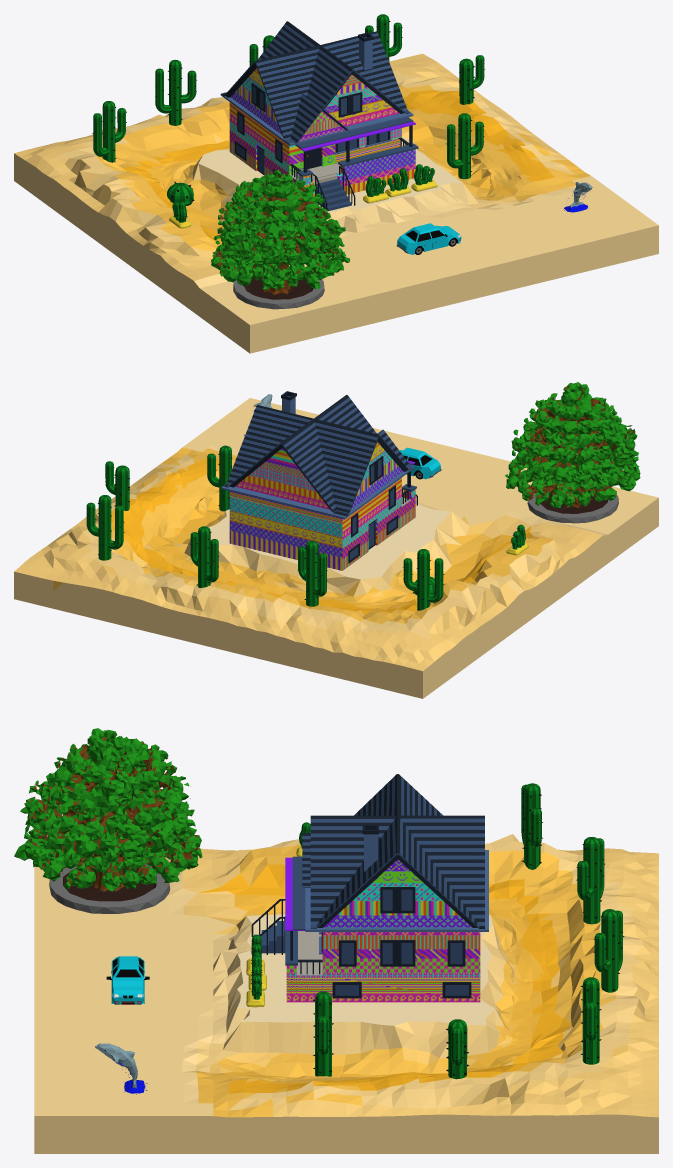
3 renders of one model, top to bottom at view 1: azimuth 30°, elevation 25°; view 2: azimuth 150°, elevation 25°; view 3: azimuth 270°, elevation 25°, orthographic. The views are drawn at different scales.
Visible parts, largest first — view 1: Cube.001, Cube.676, OBJRANDOM_CEIBA, Cylinder.044, Cylinder.037, Cylinder.045, VEHICLES_CAR, Cylinder.038, Cylinder.042, Cylinder.041, Cylinder.039, Sphere.023 (+1 smaller); view 2: Cube.001, Cube.676, OBJRANDOM_CEIBA, Cylinder.042, Cylinder.045, Cylinder.044, Cylinder.043, Cylinder.037, Cylinder.038, VEHICLES_CAR; view 3: Cube.001, Cube.676, OBJRANDOM_CEIBA, Cylinder.044, Cylinder.043, VEHICLES_CAR, Cylinder.045, Cylinder.042, Cylinder.037, Cylinder.038, ANIMAL_DELFIN.
Boxes of the visible parts, x1,y1,x2,y2 form: Cube.001: [14, 53, 658, 353]; Cube.676: [220, 21, 418, 211]; OBJRANDOM_CEIBA: [211, 169, 349, 309]; Cylinder.044: [155, 59, 196, 125]; Cylinder.037: [446, 113, 484, 179]; Cylinder.045: [92, 101, 126, 162]; VEHICLES_CAR: [396, 223, 461, 254]; Cylinder.038: [459, 55, 484, 104]; Cylinder.042: [365, 14, 402, 61]; Cylinder.041: [411, 164, 437, 191]; Cylinder.039: [363, 176, 388, 203]; Sphere.023: [167, 181, 194, 205]; Cube.001: [14, 398, 658, 698]; Cube.676: [221, 391, 417, 570]; OBJRANDOM_CEIBA: [505, 382, 640, 523]; Cylinder.042: [86, 495, 124, 560]; Cylinder.045: [403, 549, 444, 610]; Cylinder.044: [297, 540, 327, 606]; Cylinder.043: [190, 526, 218, 587]; Cylinder.037: [207, 445, 235, 511]; Cylinder.038: [105, 461, 129, 510]; VEHICLES_CAR: [399, 447, 441, 479]; Cube.001: [34, 834, 658, 1153]; Cube.676: [251, 774, 488, 1002]; OBJRANDOM_CEIBA: [14, 728, 202, 913]; Cylinder.044: [576, 837, 604, 924]; Cylinder.043: [593, 909, 624, 992]; VEHICLES_CAR: [106, 956, 149, 1004]; Cylinder.045: [521, 783, 542, 869]; Cylinder.042: [580, 977, 601, 1064]; Cylinder.037: [313, 991, 333, 1076]; Cylinder.038: [446, 1019, 469, 1079]; ANIMAL_DELFIN: [95, 1043, 147, 1094].
Bounding box in the file's own units: 4015 × 1643 × 4132.
36 materials, 6 textured.
